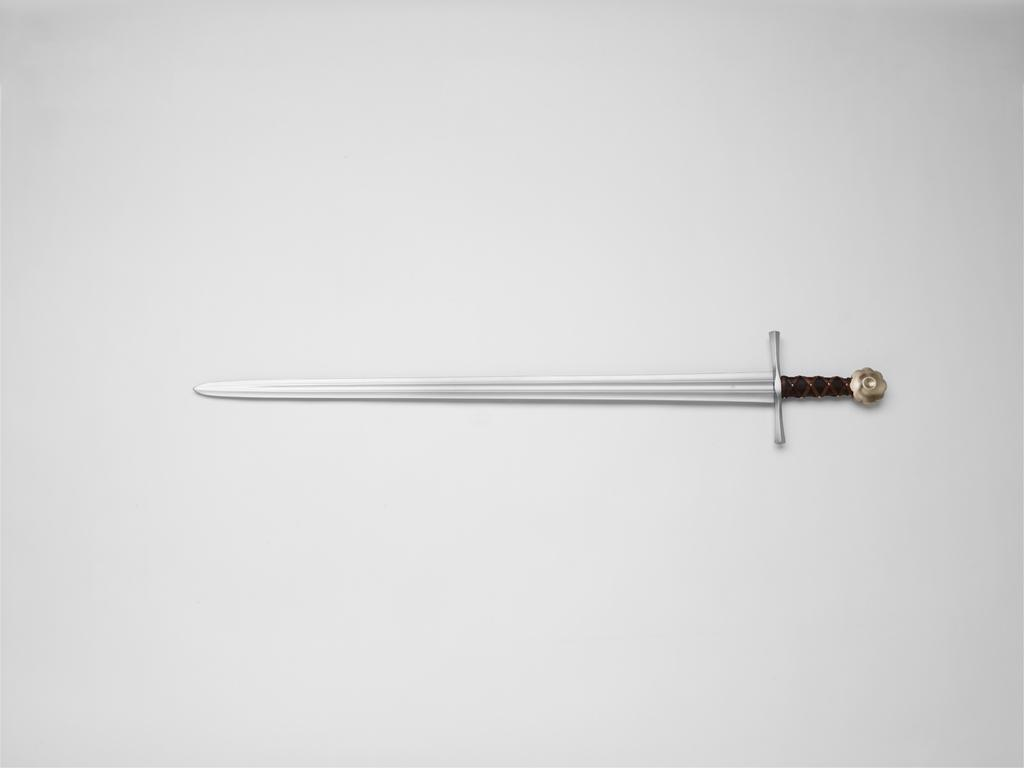Sword: (193, 328, 885, 448)
